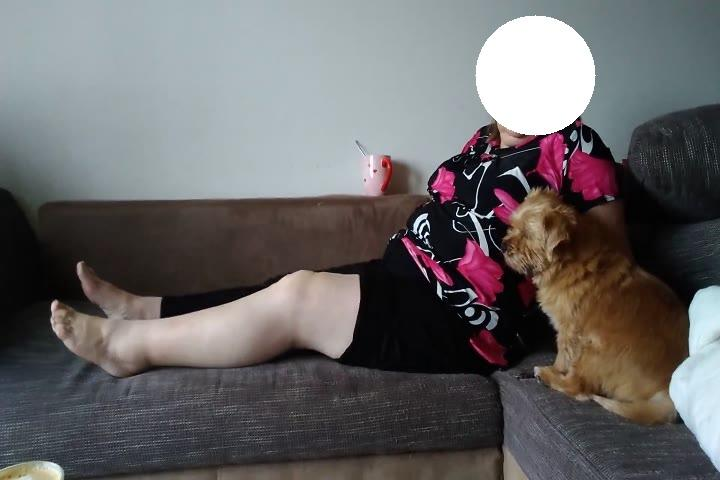lowerbody: (48, 253, 508, 388)
